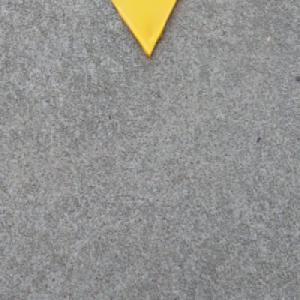PlasticPart: (110, 0, 179, 58)
